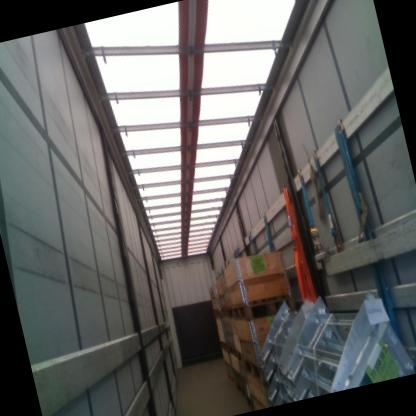pallet: (231, 290, 299, 327), (238, 347, 268, 388), (227, 340, 244, 365), (236, 379, 248, 403), (224, 369, 237, 389), (218, 338, 229, 356), (212, 307, 223, 321), (246, 397, 255, 412), (227, 306, 235, 319), (221, 307, 229, 318)
